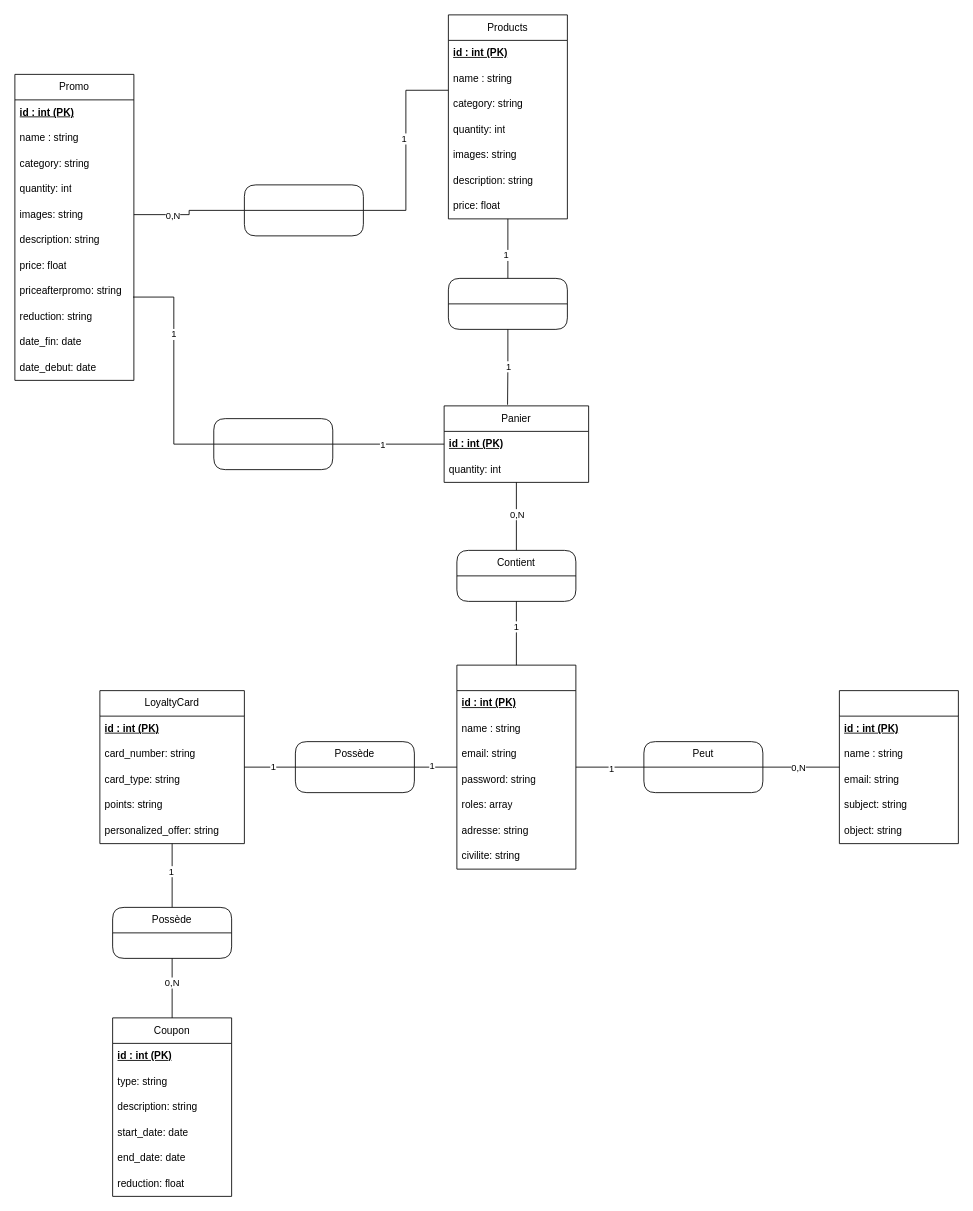
This 973x1211 diagram has some shape labels left out. The shapes that lost their labels are listed below. From the top down, each one's box as (x1, y1, x2, y2) in pixels, then its label:
(244, 184, 363, 236): Peut appartir
(448, 278, 567, 329): Être
(213, 418, 333, 470): Dans
(456, 664, 576, 869): User
(839, 690, 958, 844): Contact
